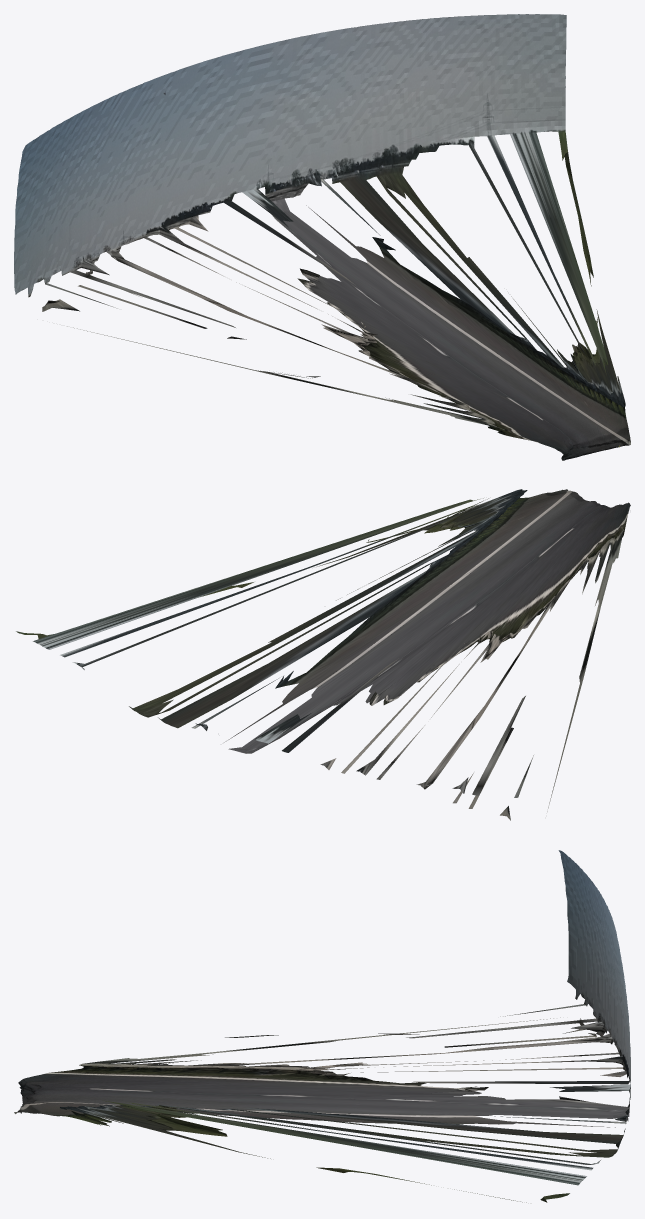
3 views of the same model, one above another, from view 1: azimuth 30°, elevation 25°; view 2: azimuth 150°, elevation 25°; view 3: azimuth 270°, elevation 25° (orthographic). The views are drawn at different scales.
Parts seen in each view (by area): view 1: defaultobject; view 2: defaultobject; view 3: defaultobject.
Boxes of the visible parts, x1,y1,x2,y2 form: defaultobject: (14,14,630,460); defaultobject: (16,489,630,820); defaultobject: (14,850,630,1202).
Size of the model in its own units: 41.16 by 13.69 by 44.62.
Materials: 1 (1 with a texture image).
